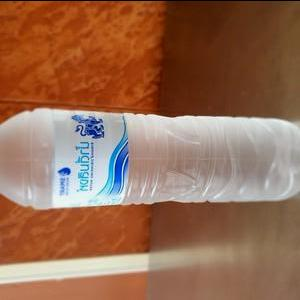bottle: (0, 104, 300, 211)
